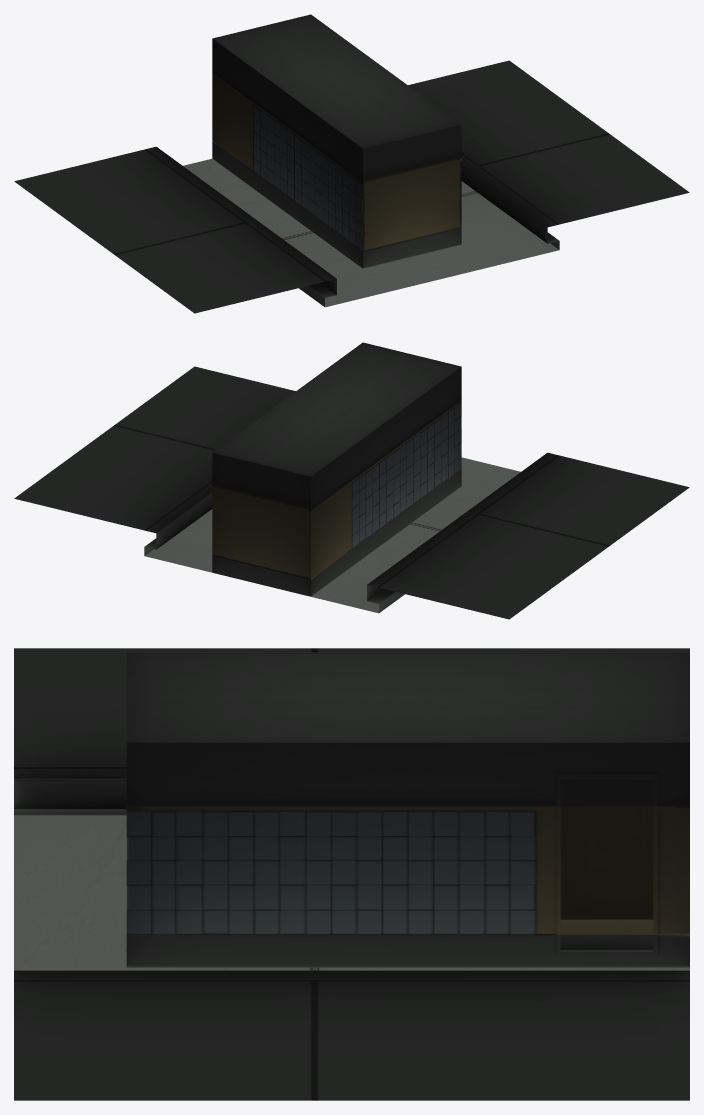
Rendered from ceilingStairs.fbx.
3 views of the same model, one above another, from view 1: azimuth 30°, elevation 25°; view 2: azimuth 150°, elevation 25°; view 3: azimuth 270°, elevation 25° (orthographic). The views are drawn at different scales.
Parts seen in each view (by area): view 1: polySurface137; view 2: polySurface137; view 3: polySurface137.
Part boxes in pixels (x1=…): polySurface137: x1=14, y1=14, x2=689, y2=313; polySurface137: x1=14, y1=342, x2=689, y2=619; polySurface137: x1=14, y1=648, x2=689, y2=1100.
Bounding box in the file's own units: 38 × 8.81 × 24.
